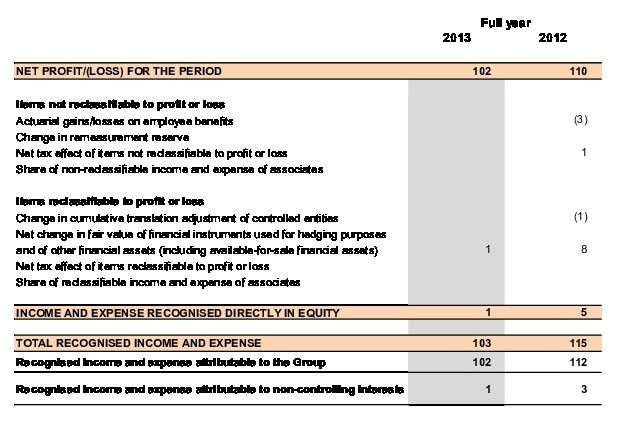table: (0, 0, 619, 422)
